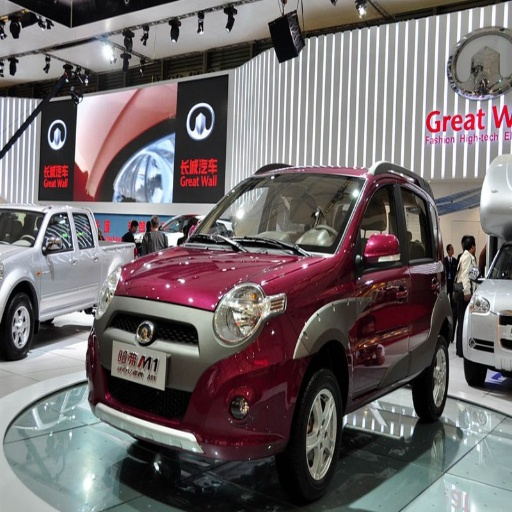front_bumper: (96, 298, 303, 463)
front_glass: (191, 172, 363, 252)
front_left_door: (355, 170, 411, 391)
